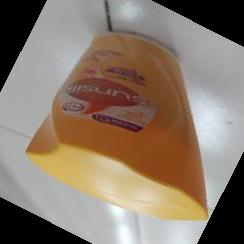sunsilk yellow: (27, 27, 211, 225)
